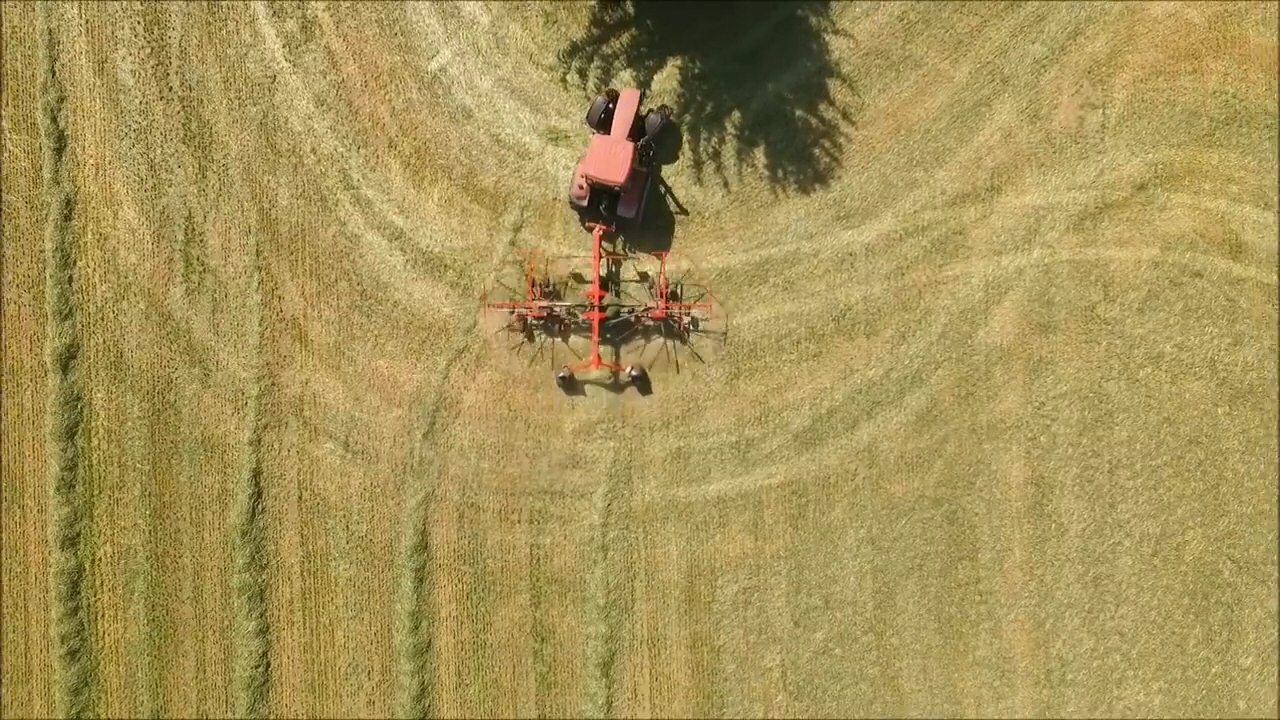traktor: (565, 83, 668, 228)
